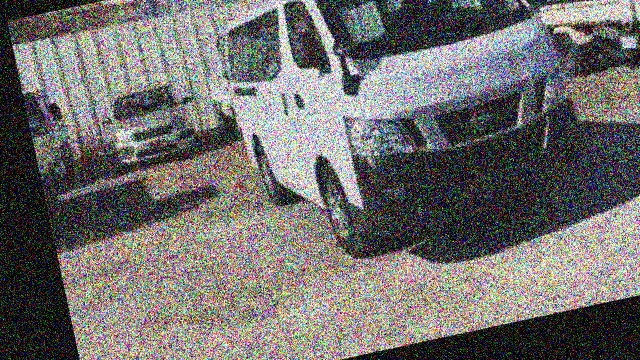van: (201, 0, 604, 283)
